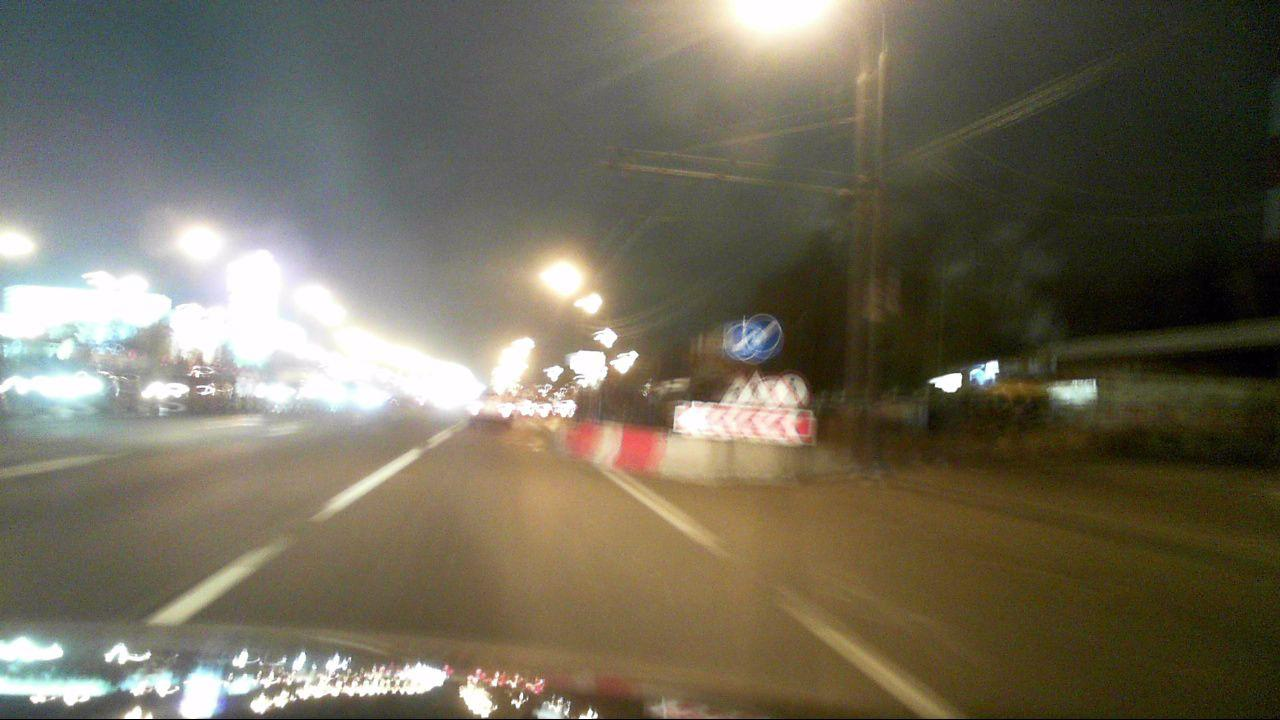1_25: (728, 367, 771, 404)
3_10: (774, 369, 809, 410)
4_2_2: (725, 323, 758, 360)
